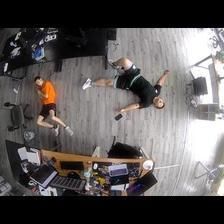fall: (81, 57, 174, 115), (34, 76, 78, 140)
